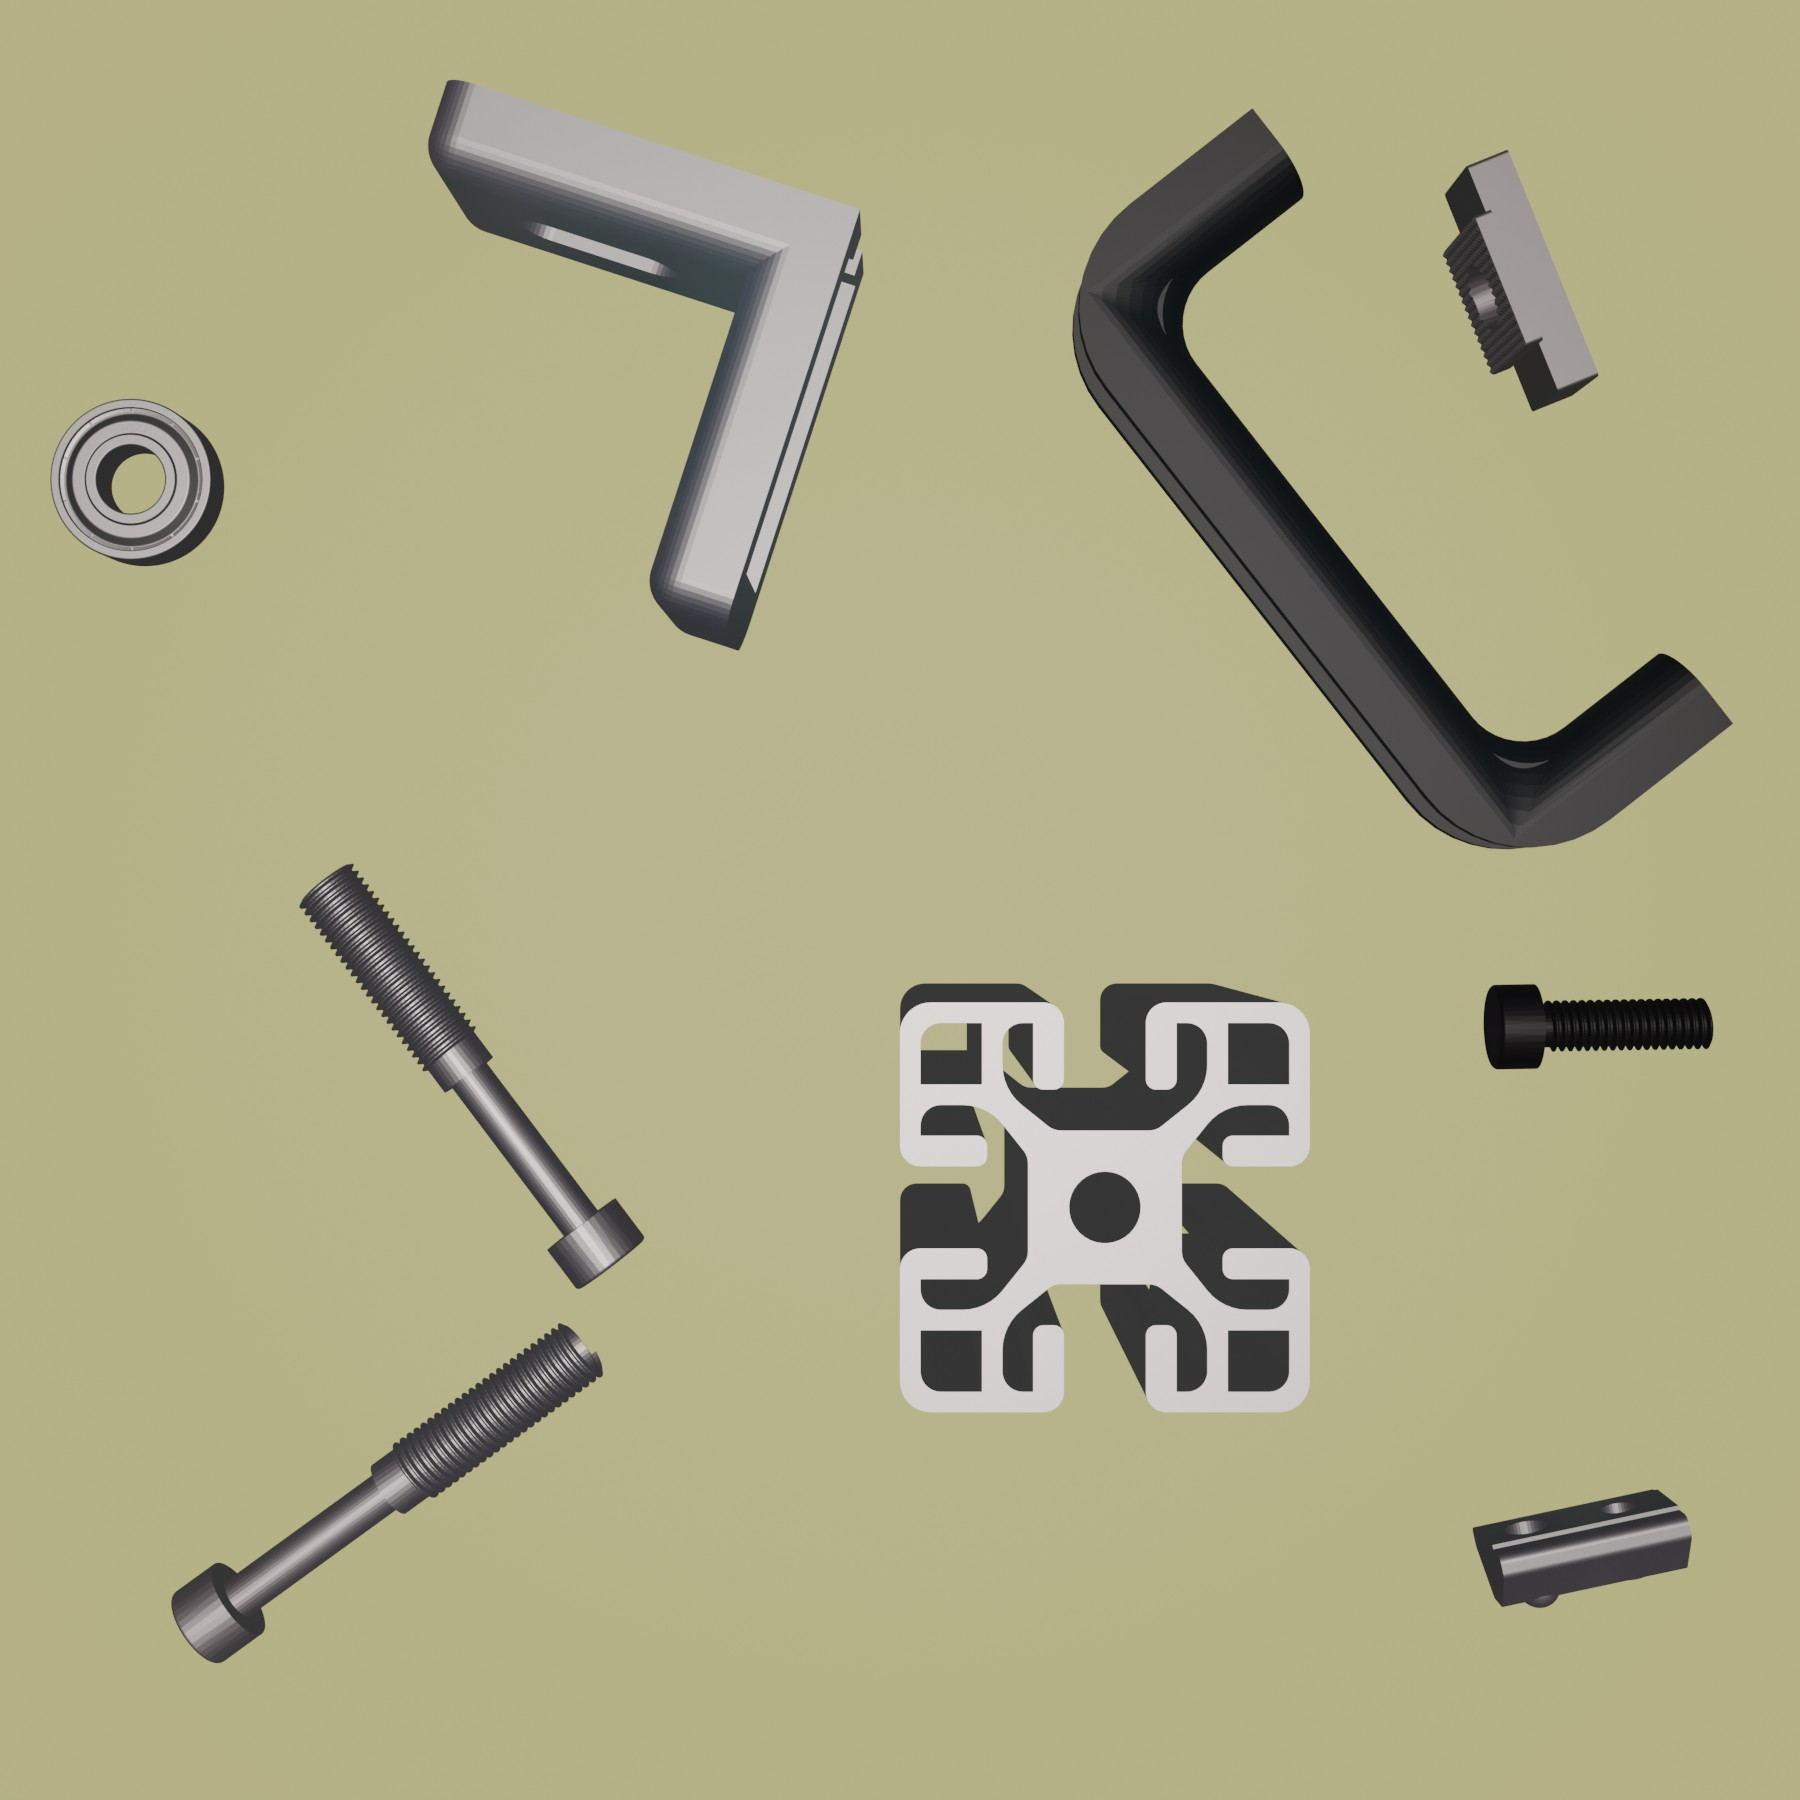Aluminium Extension: (892, 976, 1315, 1419)
Ball Bearing: (45, 396, 224, 569)
Multiwinkel: (427, 73, 865, 654)
Pull Handle: (1070, 105, 1736, 854)
Shoulder Socket Head Cap Screw: (297, 859, 648, 1292), (170, 1319, 608, 1663)
Socket Head Cap Screw: (1480, 981, 1716, 1075)
T Nut Square: (1441, 145, 1601, 415)
T Spring Nut: (1469, 1487, 1696, 1614)
